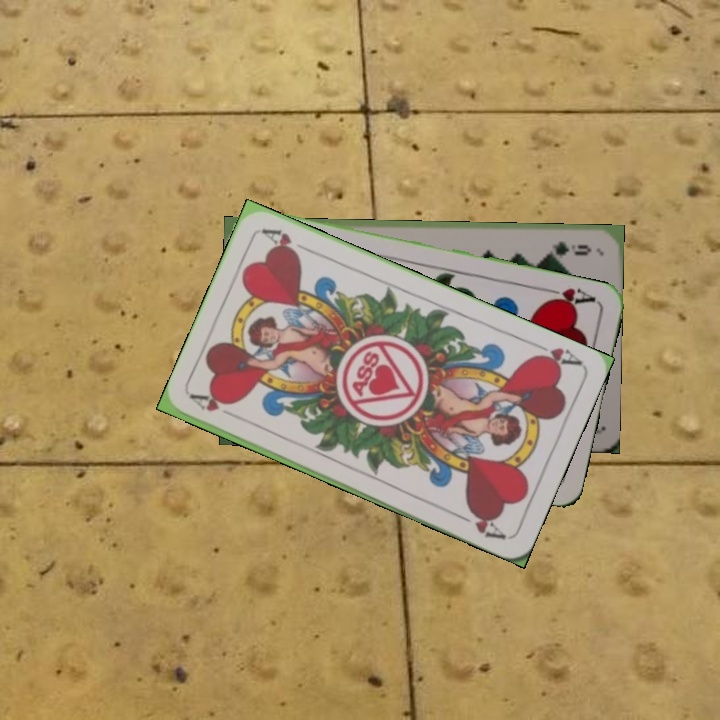G9: (542, 237, 593, 258)
HA: (527, 337, 584, 372), (188, 390, 244, 423), (540, 283, 599, 311)
